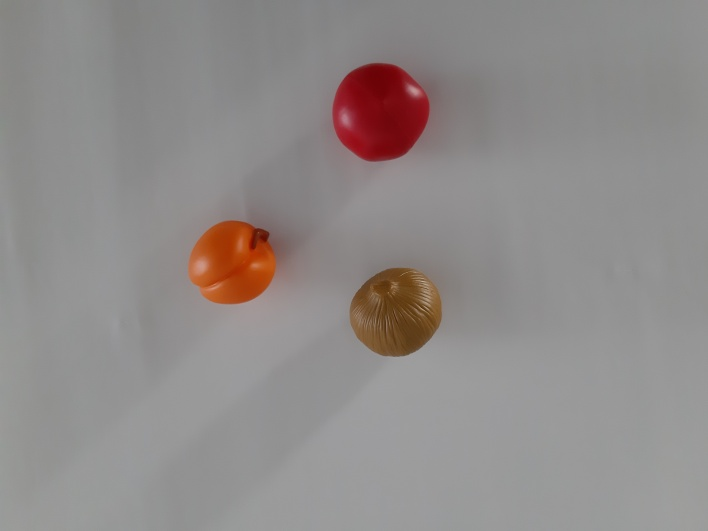apricot: (166, 207, 292, 320)
onion: (332, 250, 467, 371)
tomato: (315, 45, 443, 181)
